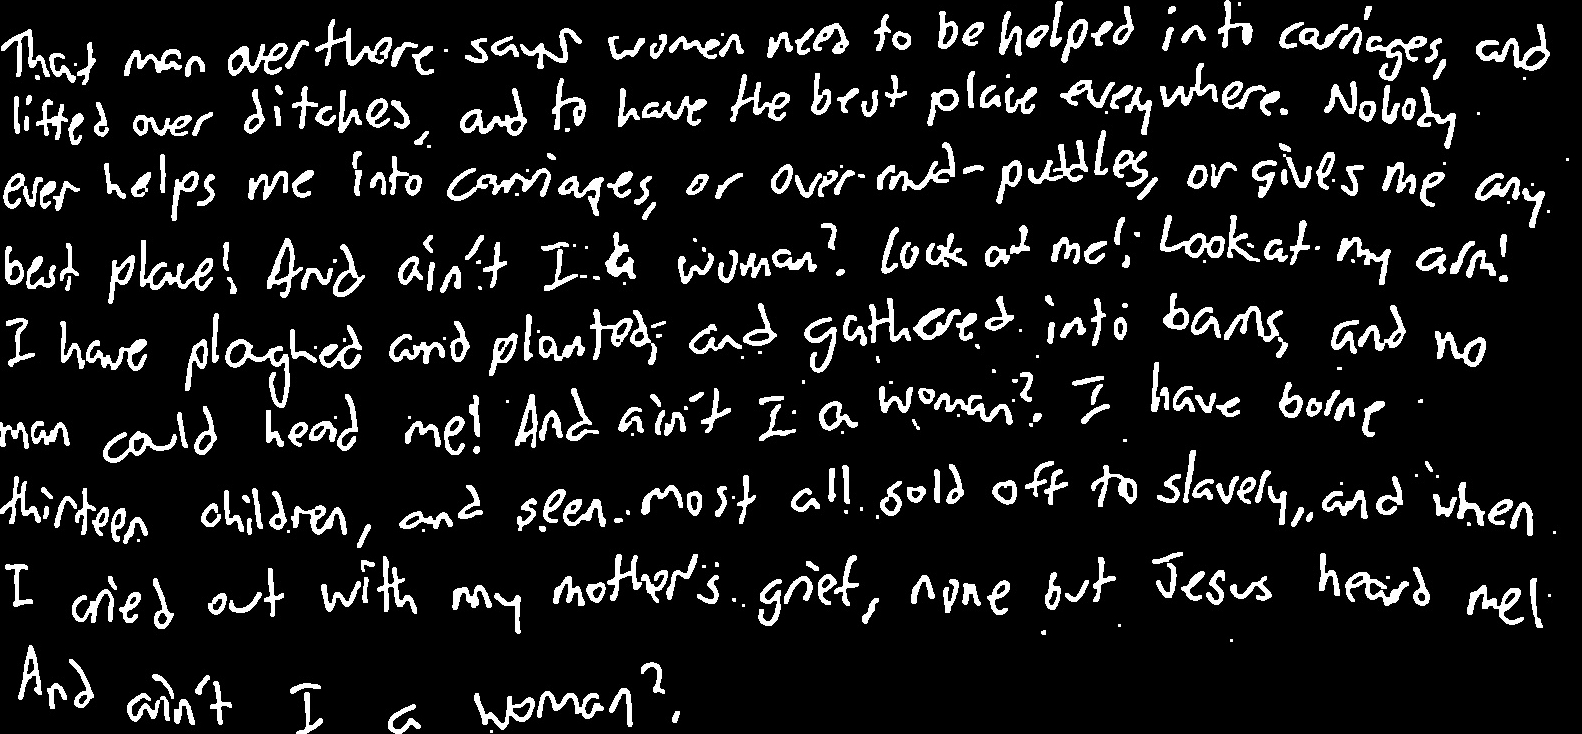That man over there says women need to be helped into carriages, and lifted over: (0, 0, 1582, 734)
